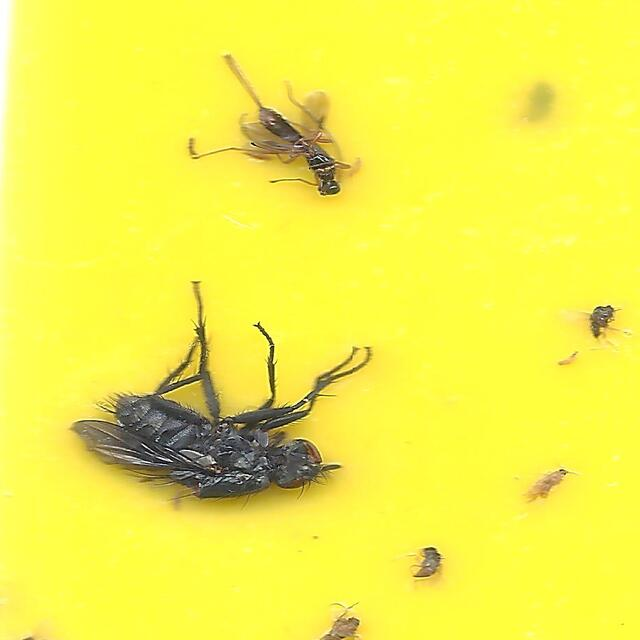Brachycera: (69, 278, 373, 503), (408, 543, 444, 585)
Hymenoptera: (186, 55, 363, 199)
Trichoptera: (517, 466, 571, 504)
